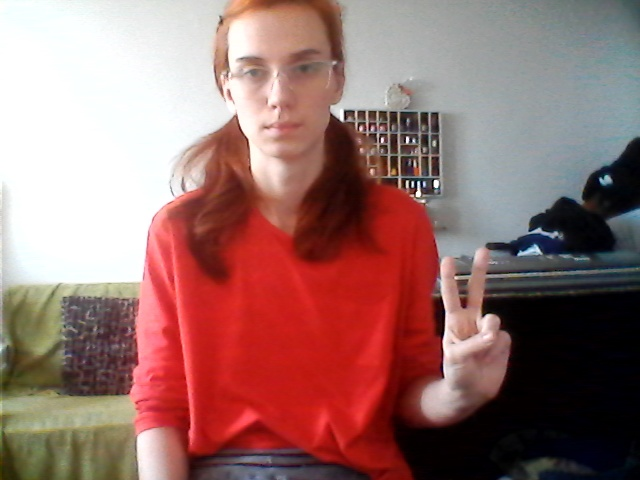v: (417, 242, 538, 414)
